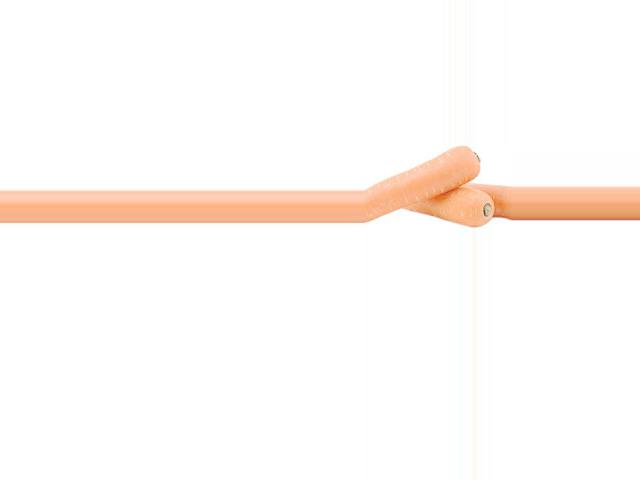carrot: (397, 187, 499, 224)
